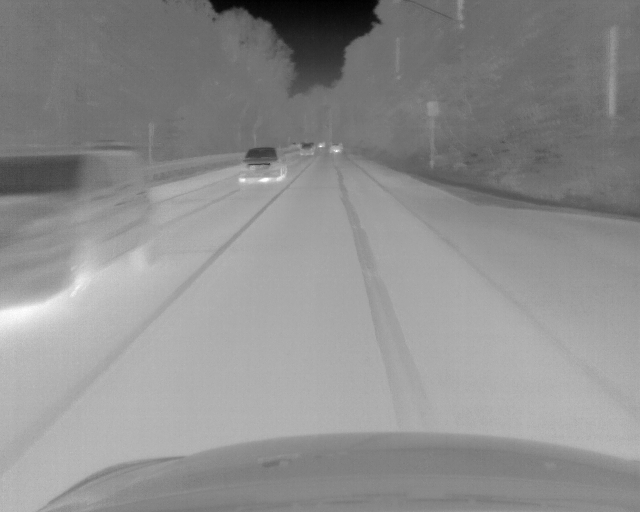car: (1, 147, 164, 314), (235, 147, 285, 183), (297, 141, 314, 157), (329, 142, 343, 155)
